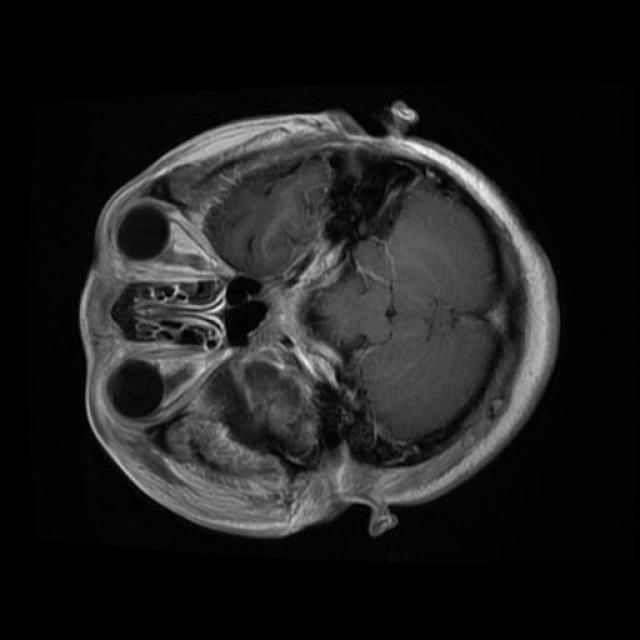Glioma: (164, 343, 344, 479)
